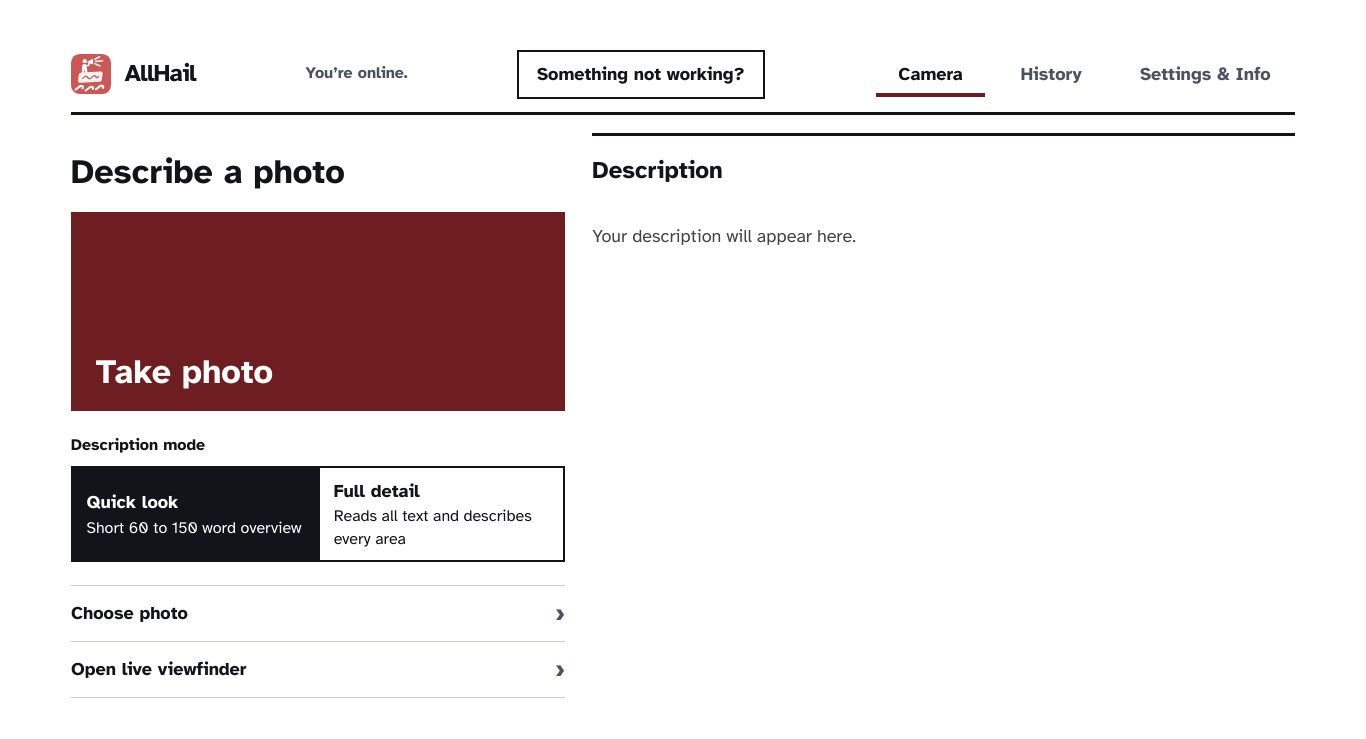
Test case: simple mode for a blind or low-vision student › refuses a PIN that is too short or typed differently twice
Click the button "Settings & Info": point(1205, 74) [1116,50,1295,98]
(page scrolled)
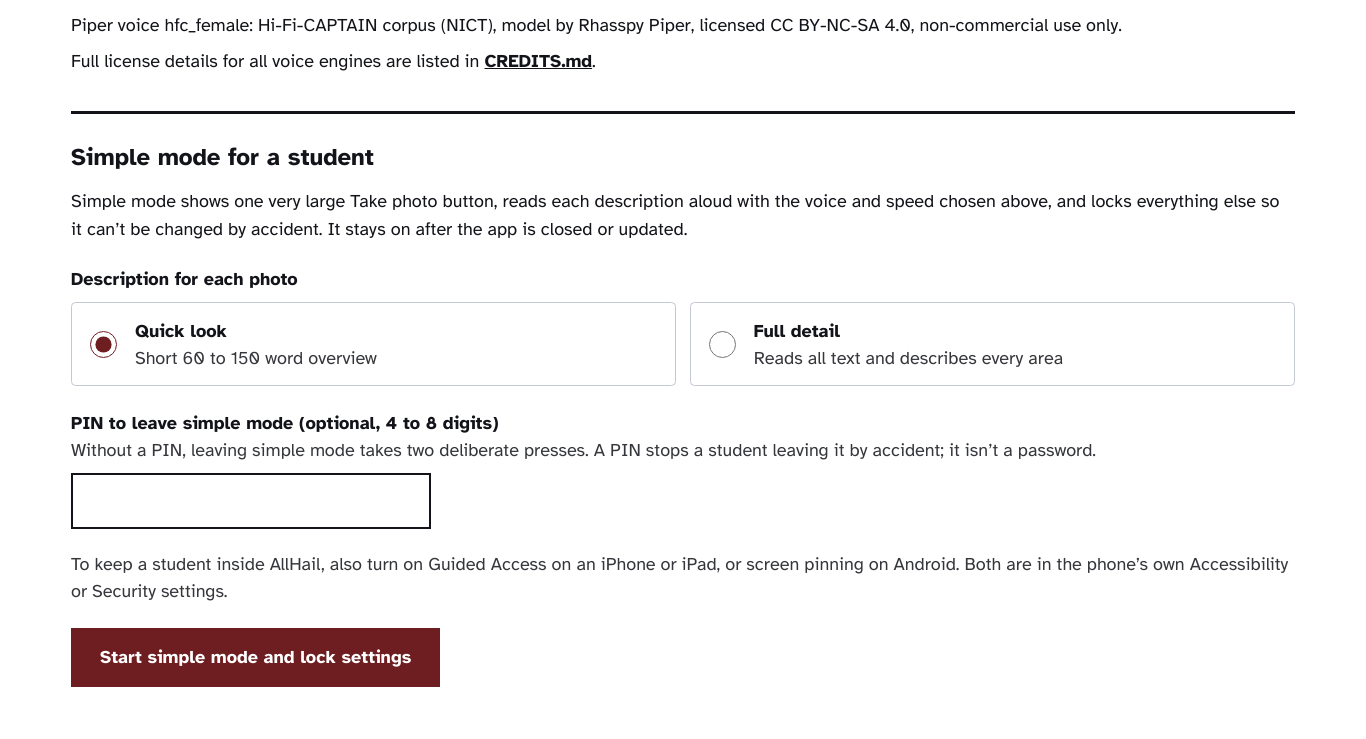
In the field labelled "PIN to leave simple mode (optional, 4 to 8 digits)": point(251, 501) [71,473,431,529], type "12"
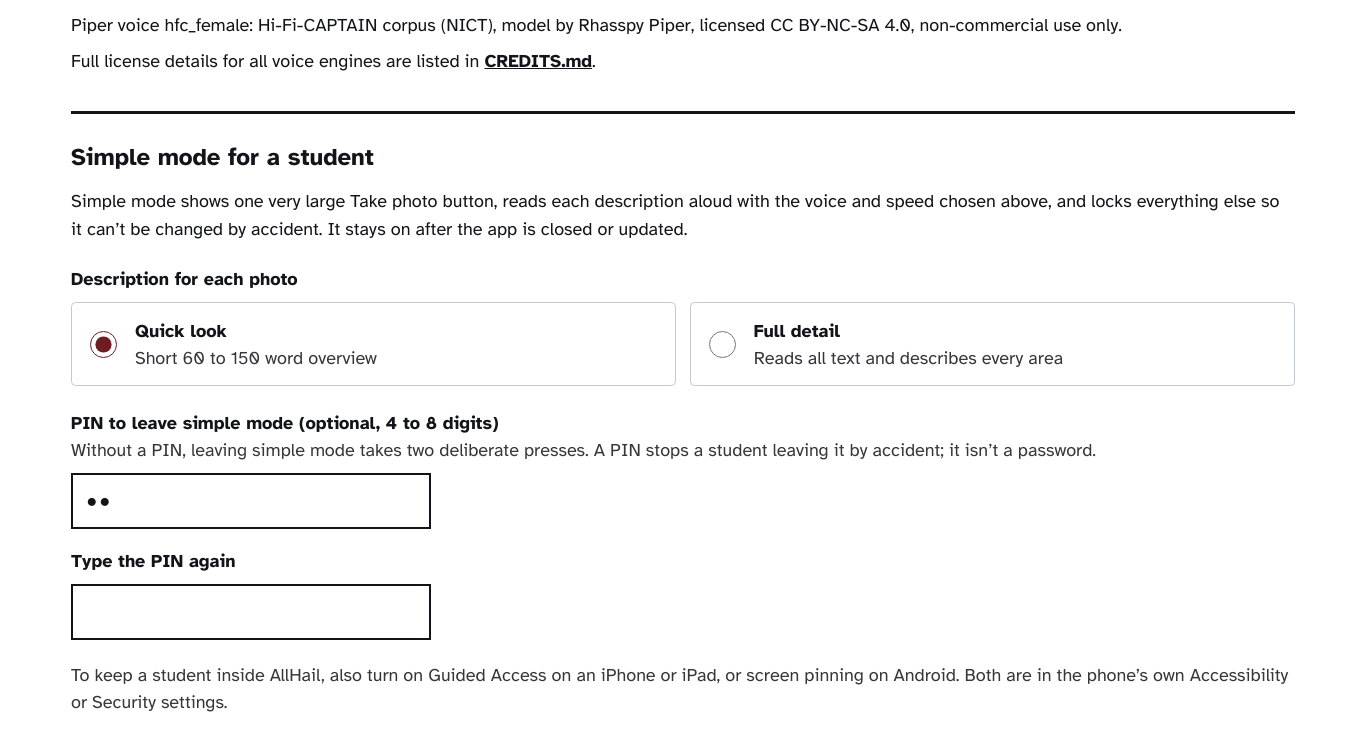
In the field labelled "Type the PIN again": point(251, 612) [71,584,431,640], type "12"
(page scrolled)
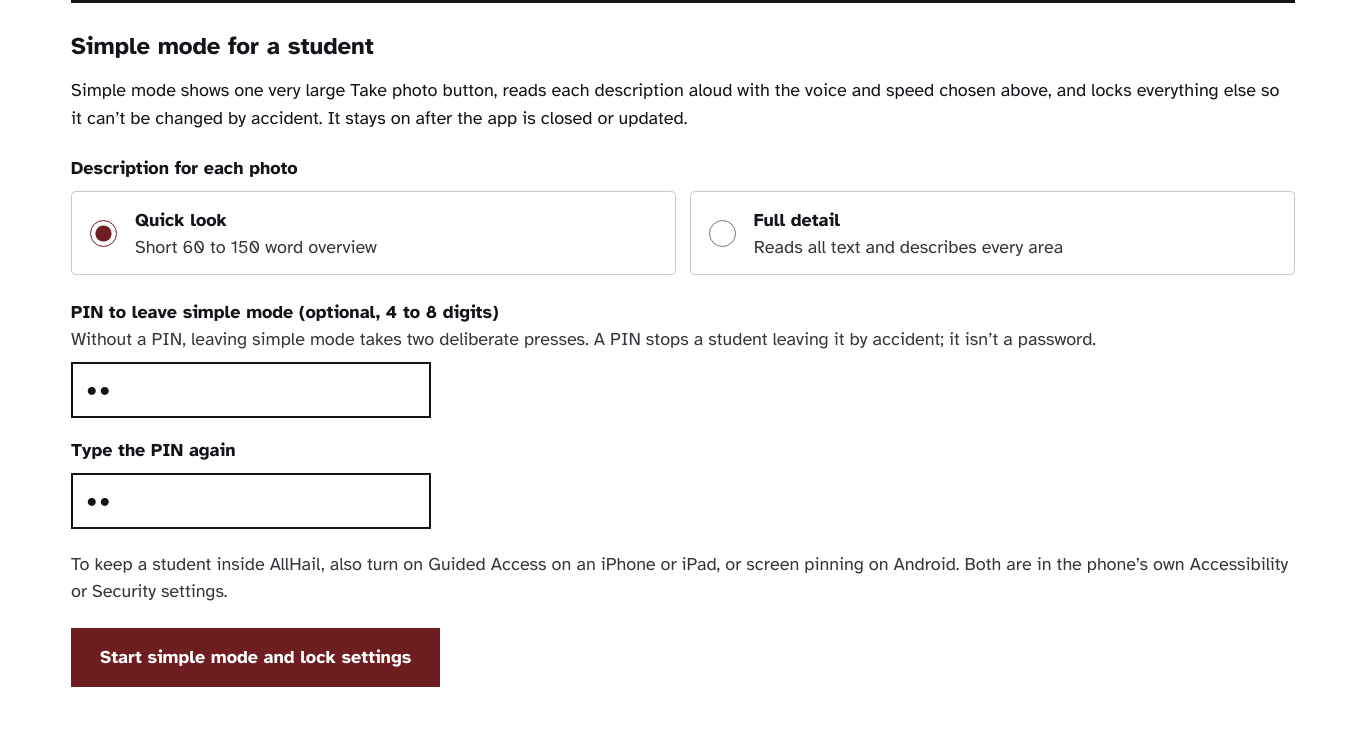
Click the button "Start simple mode and lock settings": point(256, 657) [71,628,440,687]
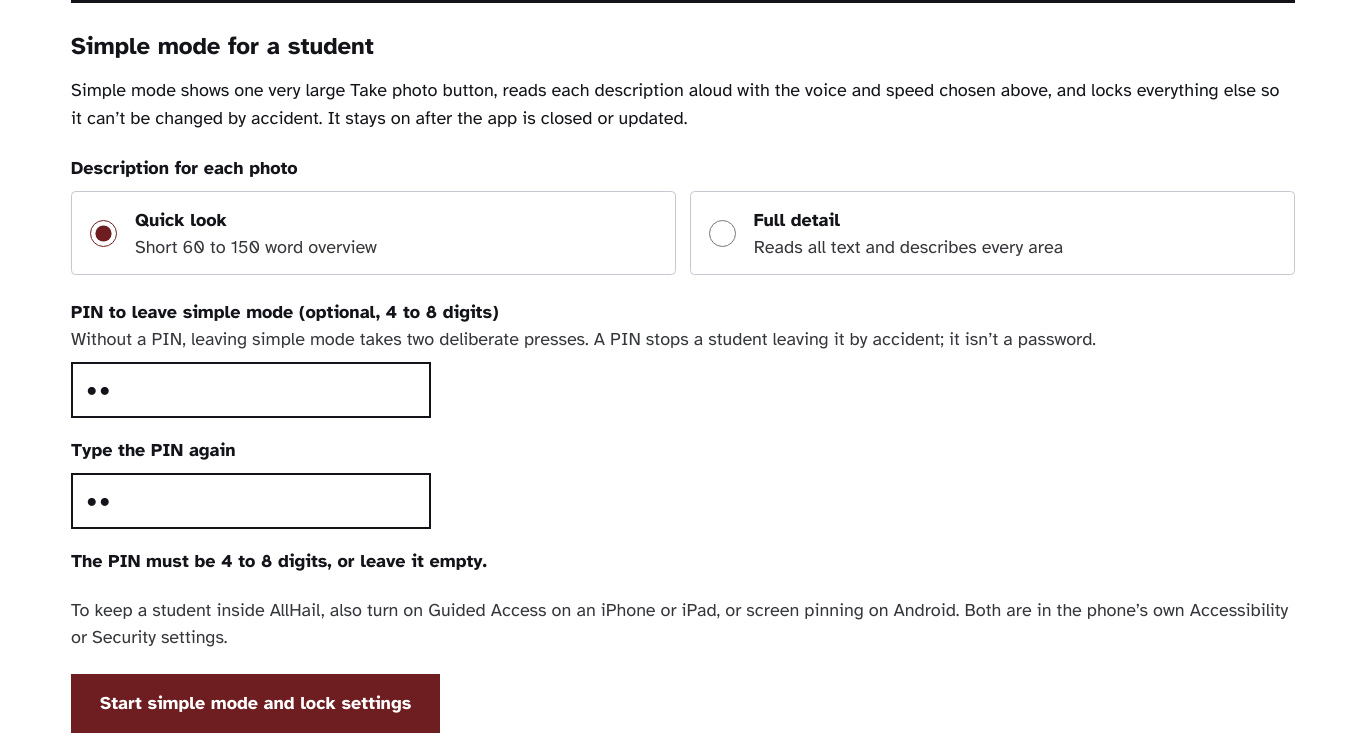
Expected: the message reads "The PIN must be 4 to 8 digits, or leave it empty.", [71,550,487,572]
Replace the text in the field labelled "PIN to leave simple mode (optional, 4 to 8 digits)" with "1234": point(251, 390) [71,362,431,418]
Replace the text in the field labelled "Type the PIN again" with "4321": point(251, 501) [71,473,431,529]
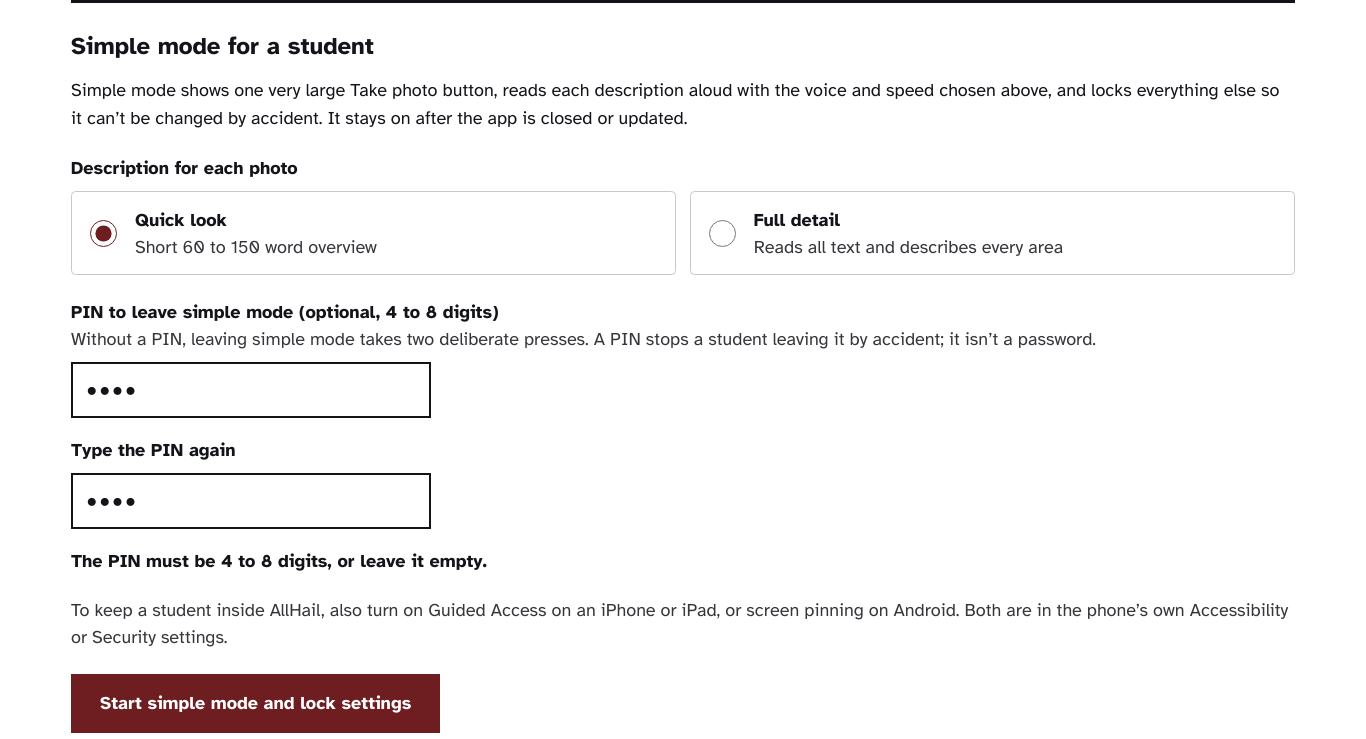
Click the button "Start simple mode and lock settings": point(256, 703) [71,674,440,733]
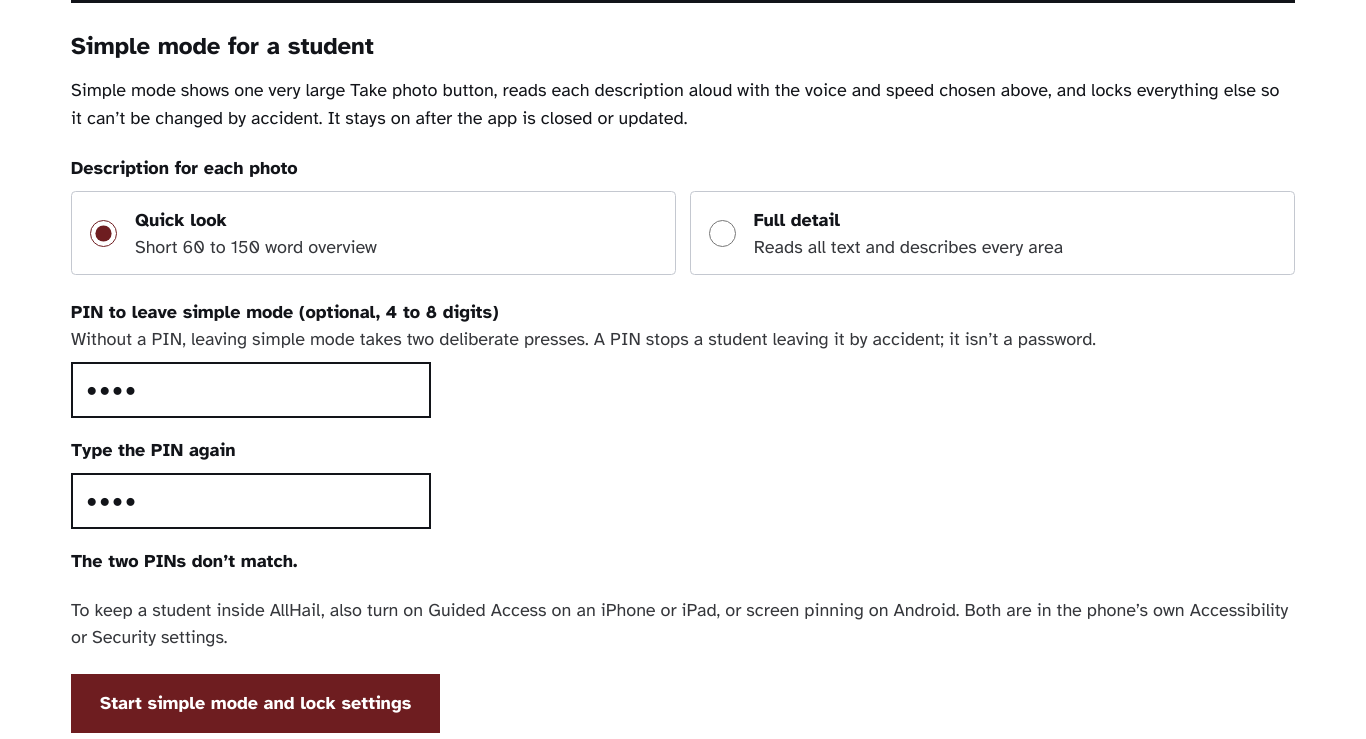
Expected: the message reads "The two PINs don’t match.", [71,550,298,572]
